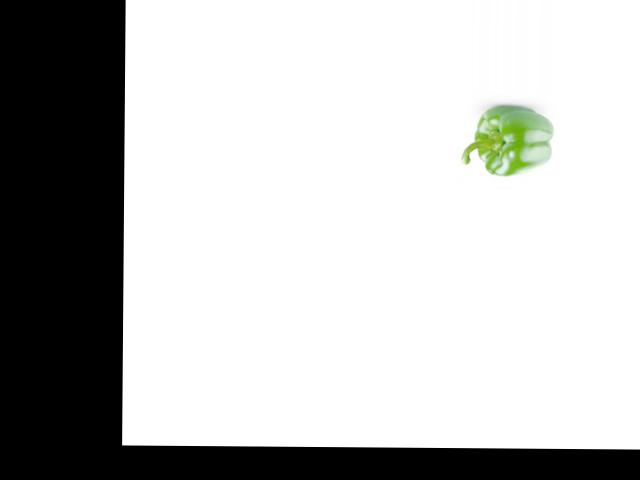bell_pepper: (459, 106, 556, 177)
